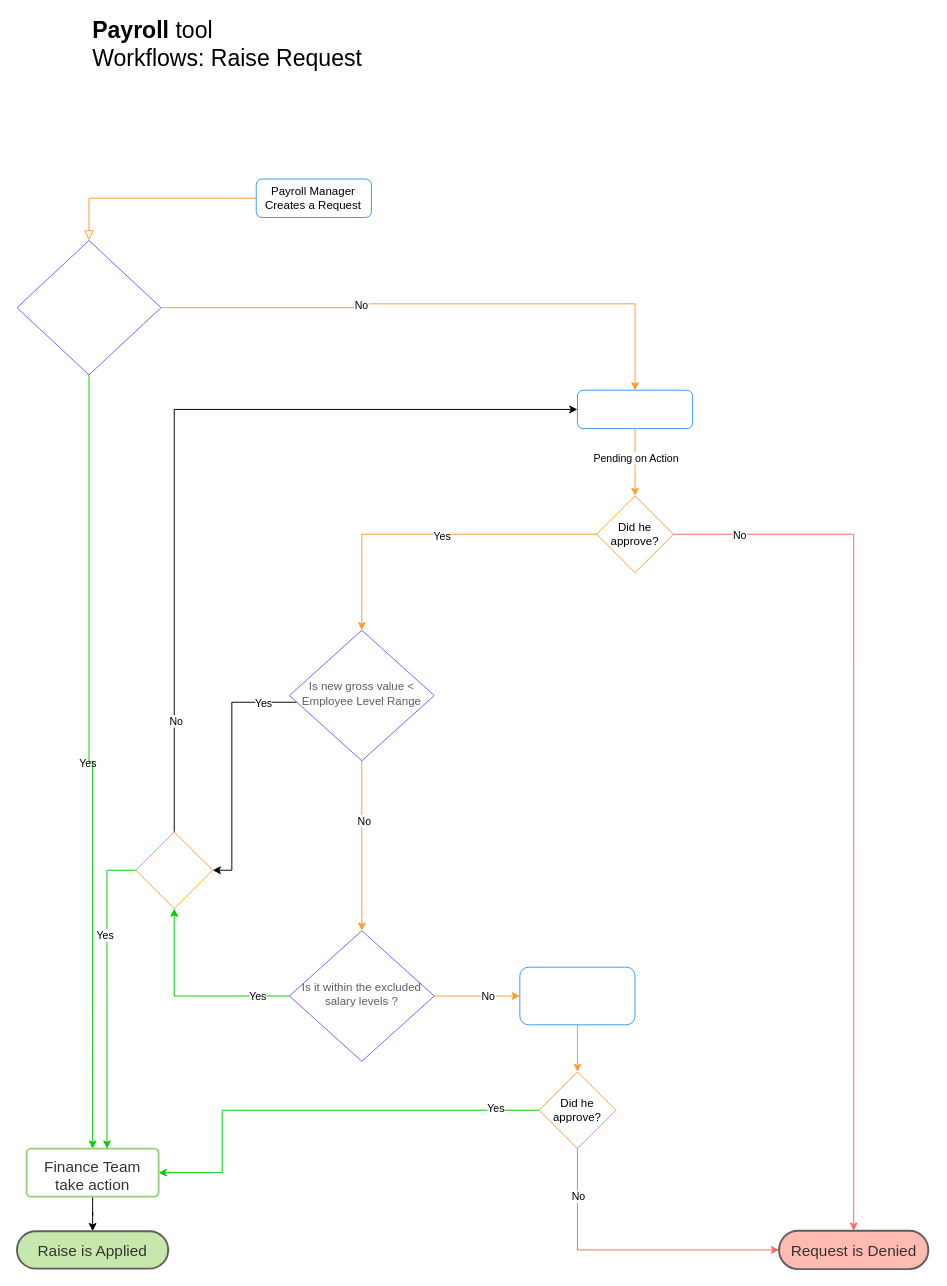
Image size: 947x1286. Some labels were removed from this diagram. Each missing label, with the centre of its shape:
"Escalate to CEO" belongs at pixel 577 995.
"Escalate to his Manager" belongs at pixel 634 409.
"Is he a UnitHead" belongs at pixel 174 870.
"Is Payroll Manager a CEO" belongs at pixel 88 307.
